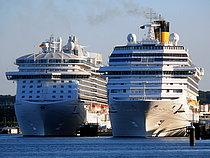Ship: (97, 8, 209, 144), (4, 28, 117, 139)
